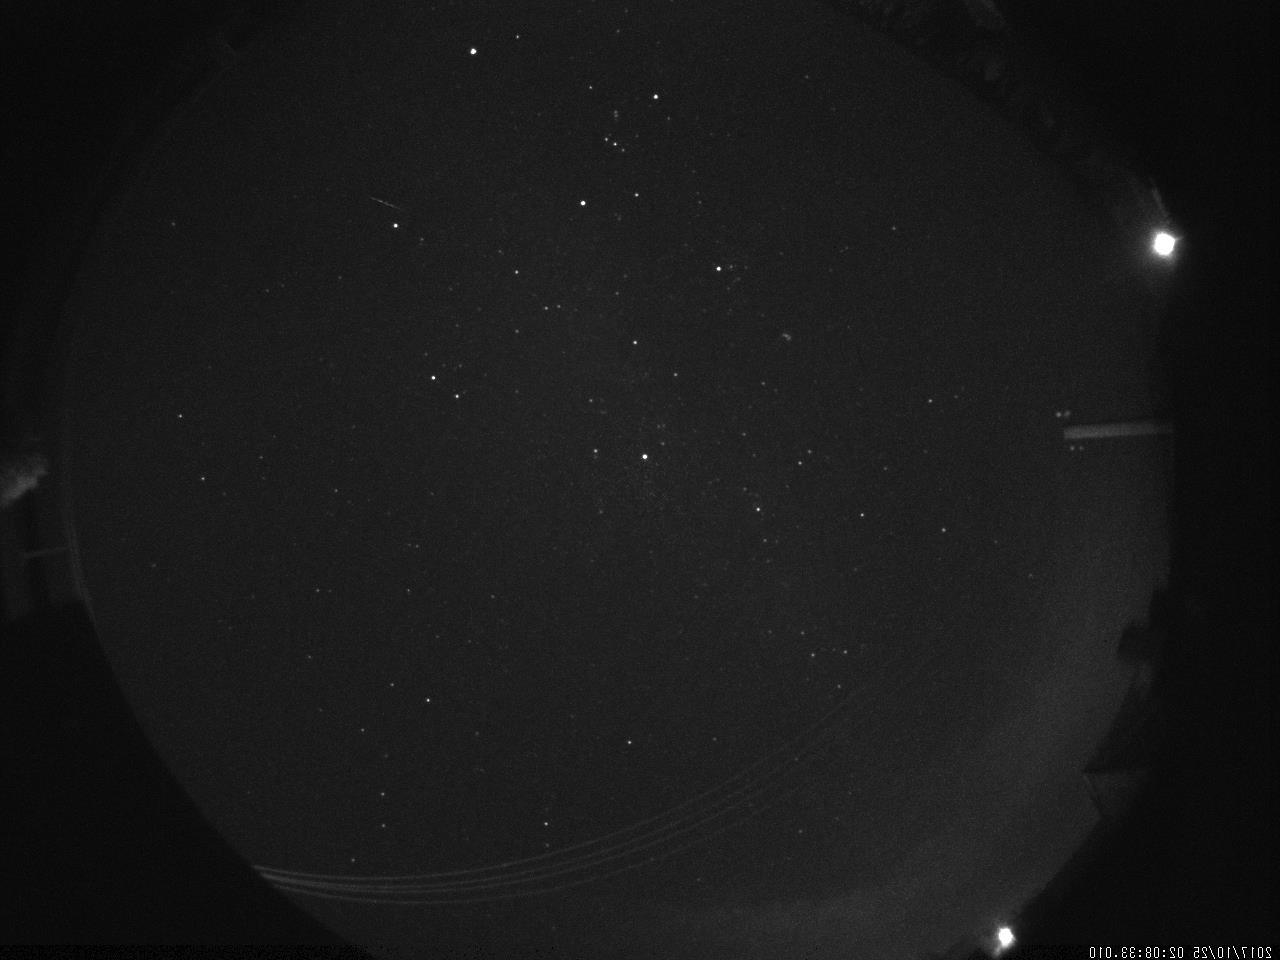meteor: (358, 184, 414, 218)
